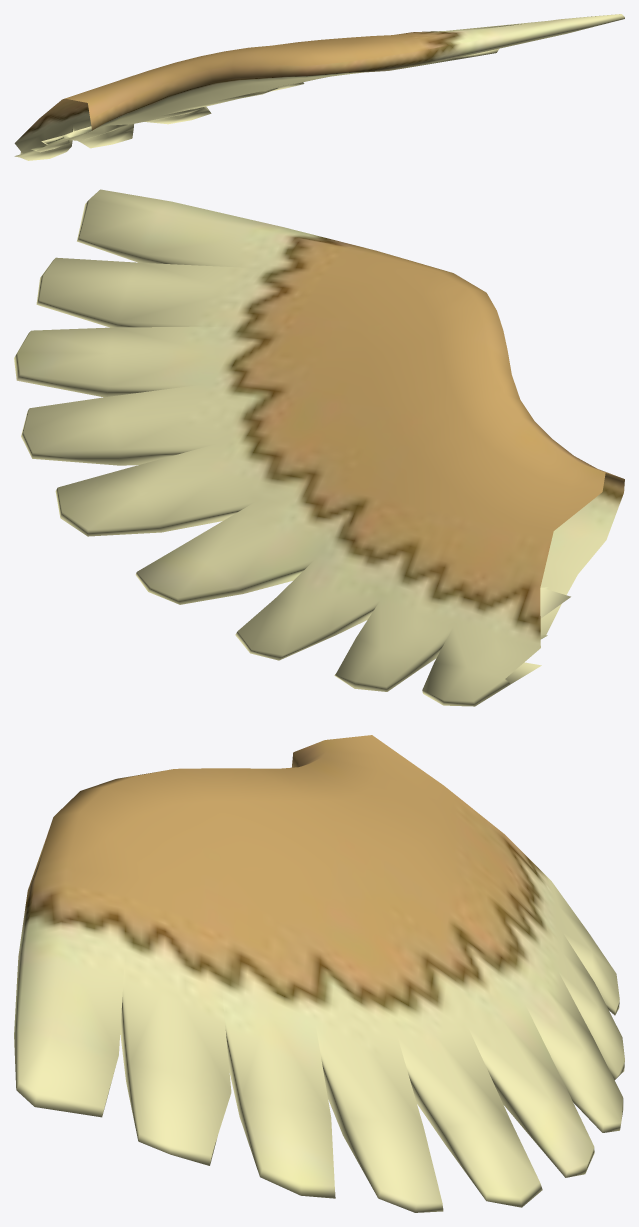
Rendered from pidgey_ala_izq.obj.
3 views of the same model, one above another, from view 1: azimuth 30°, elevation 25°; view 2: azimuth 150°, elevation 25°; view 3: azimuth 270°, elevation 25° (orthographic). The views are drawn at different scales.
Bounding box in the file's own units: 0.7762 × 0.2816 × 0.463.
Materials: 1 (1 with a texture image).
